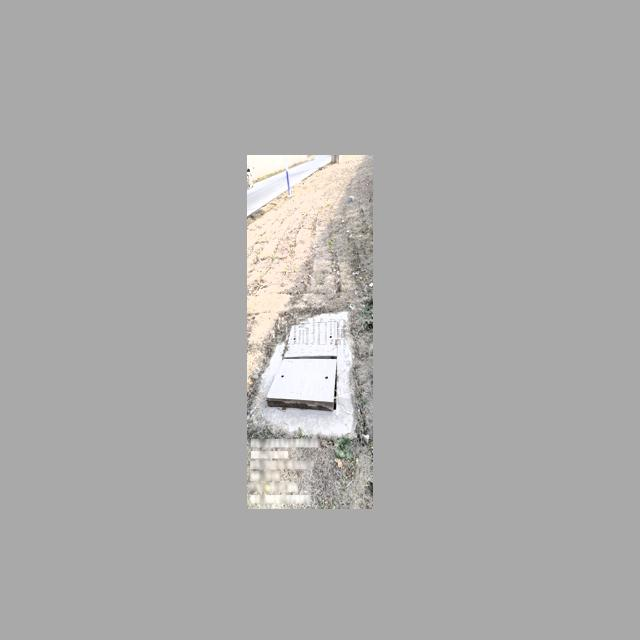uncovered: (265, 320, 338, 413)
